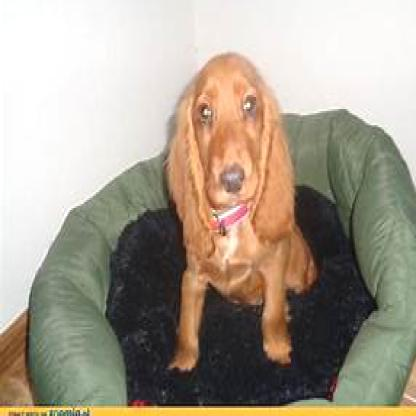dog: (166, 52, 317, 372)
